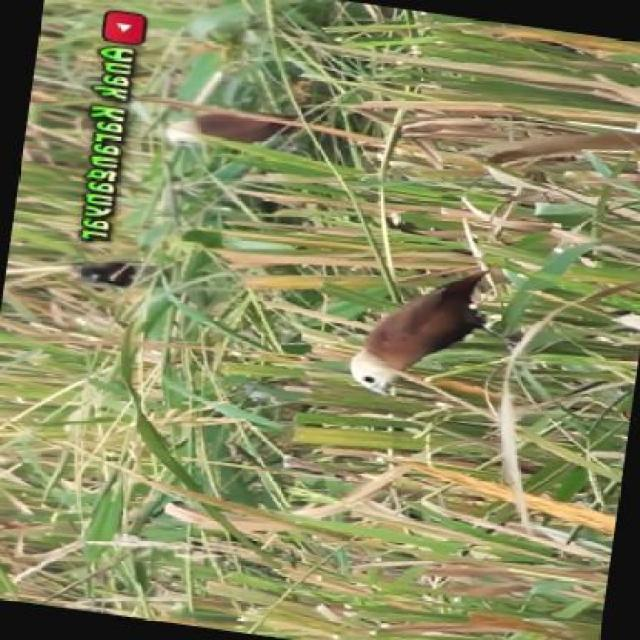Bird: (352, 269, 496, 396), (164, 99, 299, 152), (69, 250, 144, 296)
